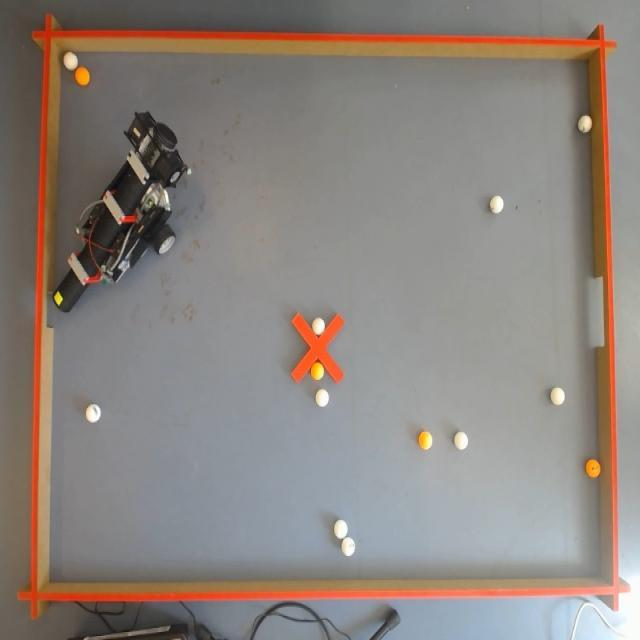orange: (416, 431, 432, 452), (584, 462, 600, 481), (310, 361, 322, 382), (75, 66, 89, 82)
robot: (50, 125, 184, 308)
white: (334, 516, 348, 538), (489, 194, 504, 214), (86, 404, 100, 424), (578, 114, 592, 134), (454, 430, 467, 450), (342, 536, 354, 556), (551, 389, 565, 406), (64, 52, 77, 70), (312, 315, 324, 333), (315, 391, 327, 408)
